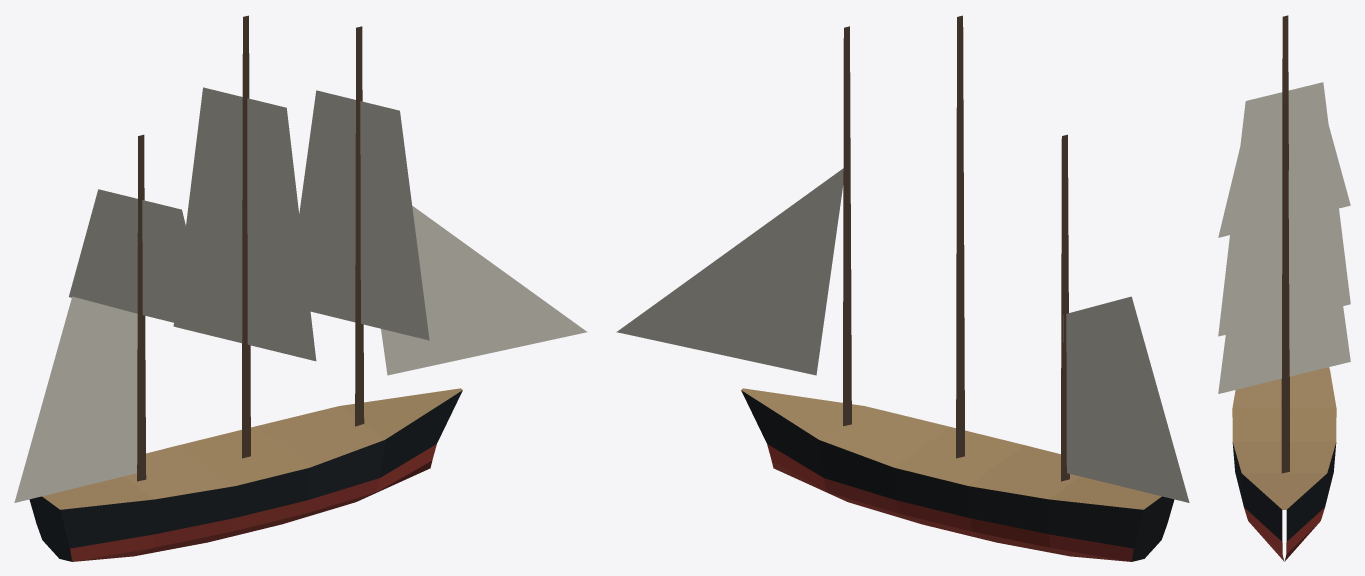
The model's file is hull_usd_ship_flagship_lod.glb.
3 views of the same model, side by side, from view 1: azimuth 30°, elevation 25°; view 2: azimuth 150°, elevation 25°; view 3: azimuth 270°, elevation 25° (orthographic). The views are drawn at different scales.
Visible parts, largest first — view 1: lod; view 2: lod; view 3: lod.
Part boxes in pixels (x1,y1,x2,y2): lod: (14, 15, 587, 561); lod: (616, 15, 1189, 561); lod: (1218, 15, 1350, 561).
Bounding box in the file's own units: 41.02 × 35.42 × 8.86.
